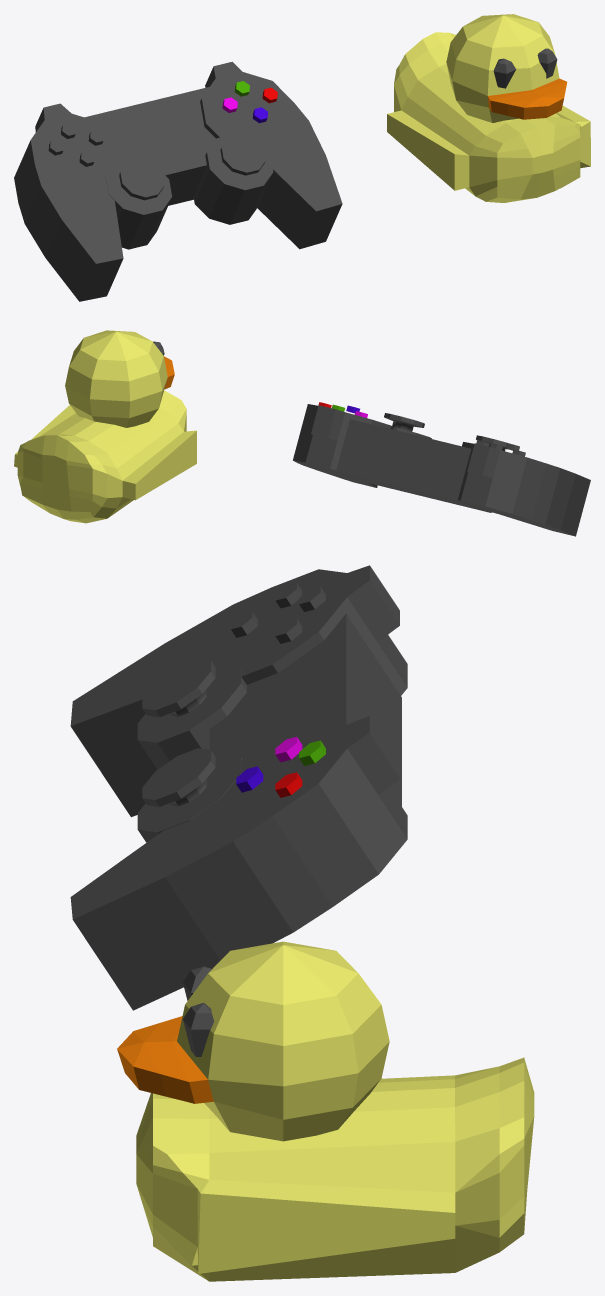
File: RubberDuckandController.fbx
3 views of the same model, one above another, from view 1: azimuth 30°, elevation 25°; view 2: azimuth 150°, elevation 25°; view 3: azimuth 270°, elevation 25° (orthographic). The views are drawn at different scales.
Parts seen in each view (by area): view 1: controller, rubberDuck; view 2: rubberDuck, controller; view 3: rubberDuck, controller.
Part boxes in pixels (box(x1,y1,x2,y2)): controller: box(14, 61, 342, 301); rubberDuck: box(387, 14, 590, 202); rubberDuck: box(14, 330, 196, 523); controller: box(293, 402, 590, 536); rubberDuck: box(117, 941, 534, 1281); controller: box(70, 565, 407, 1010).
Bounding box in the file's own units: 7.11 × 2.14 × 2.91.
